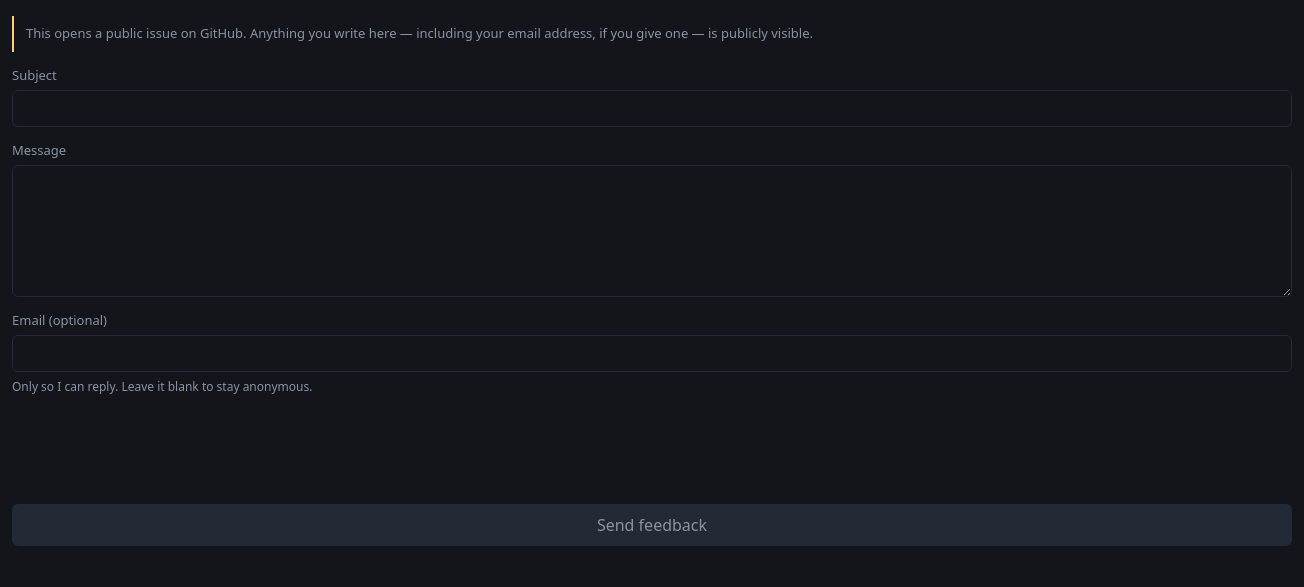
Test: FeedbackForm › surfaces the 502 (upstream_error) message as a single alert
The image size is (1304, 587).
Type "Cadence panel is blank" into the field labelled "Subject" at point(652, 108), box top-left (12, 90), bottom-right (1292, 126)
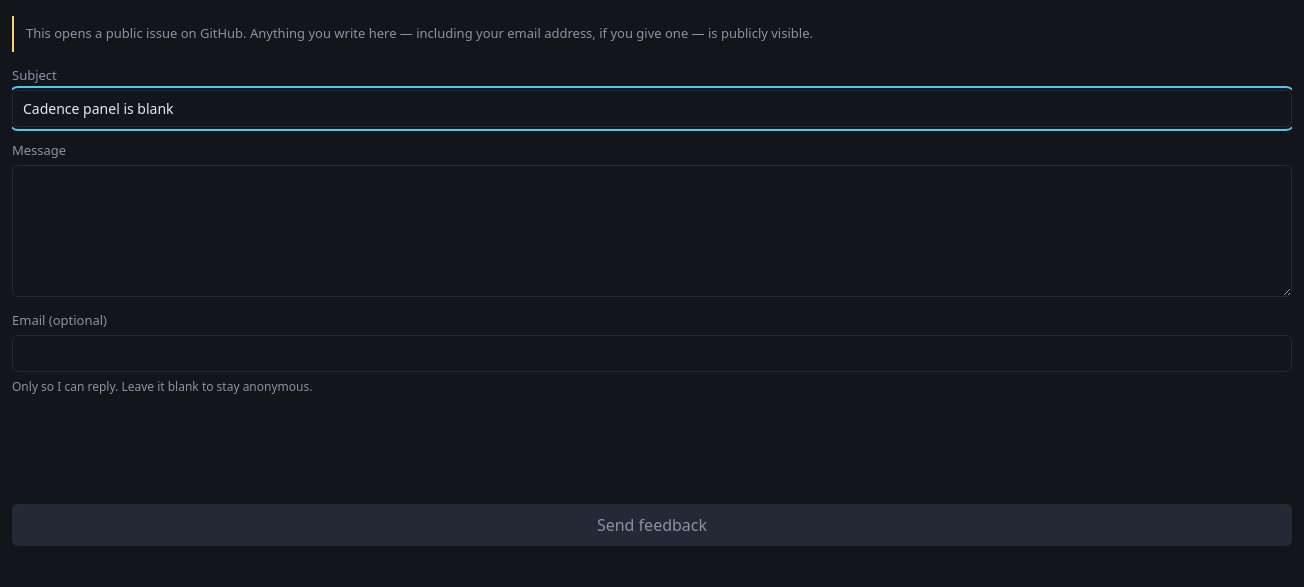
Type "The cadence chart renders nothing." into the text box labelled "Message" at point(652, 230), box top-left (12, 164), bottom-right (1292, 296)
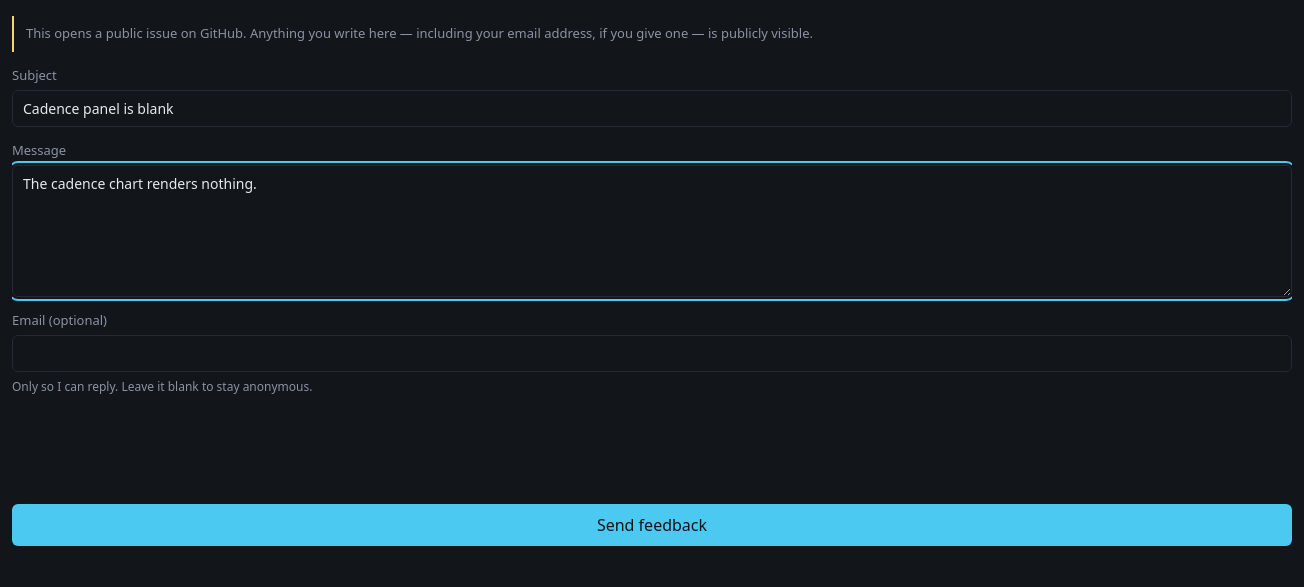
Click the button "Send feedback" at point(652, 524), box top-left (12, 504), bottom-right (1292, 546)
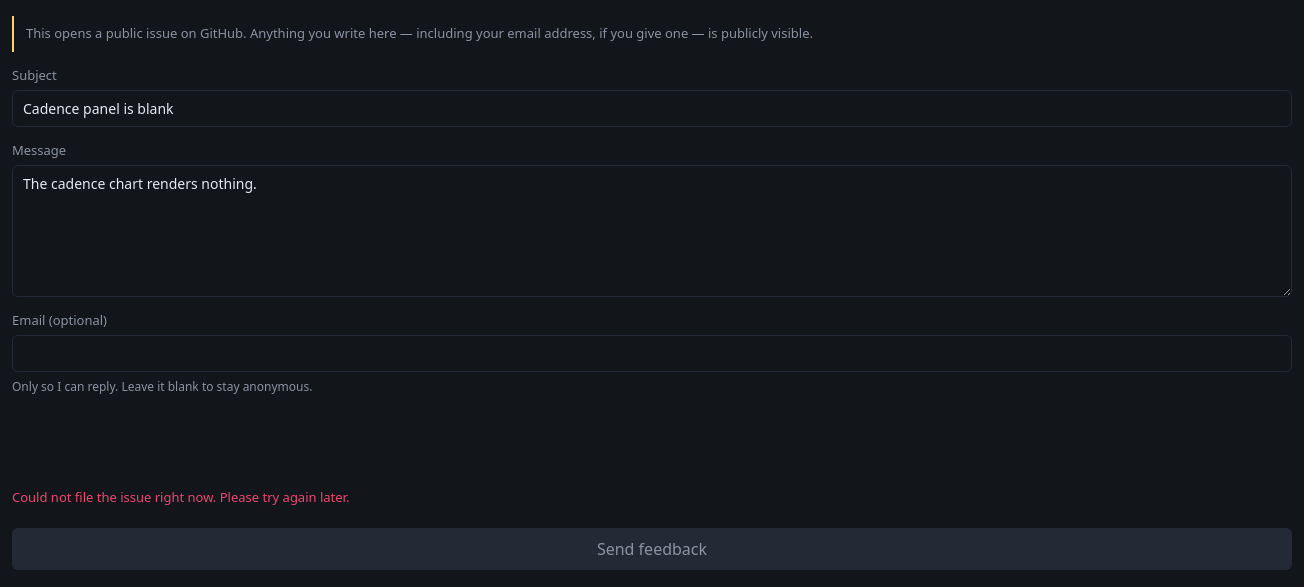
expect the message reads "Could not file the issue right now. Please try again later.": met, box top-left (12, 488), bottom-right (349, 506)
